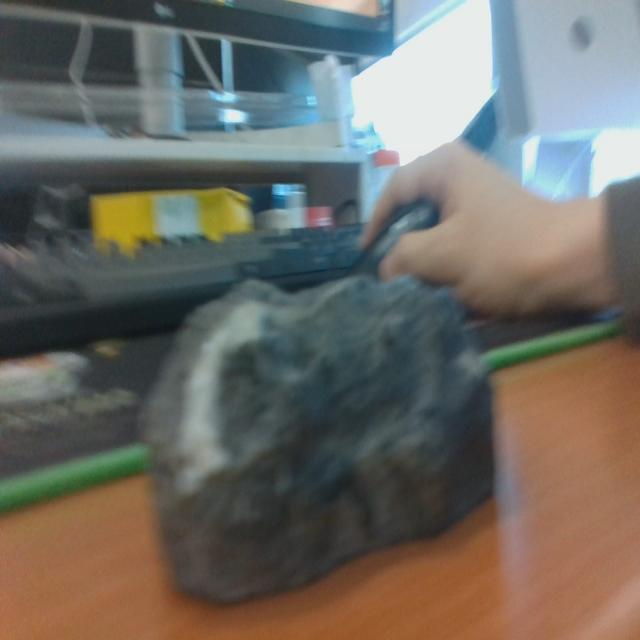stone: (140, 270, 499, 614)
